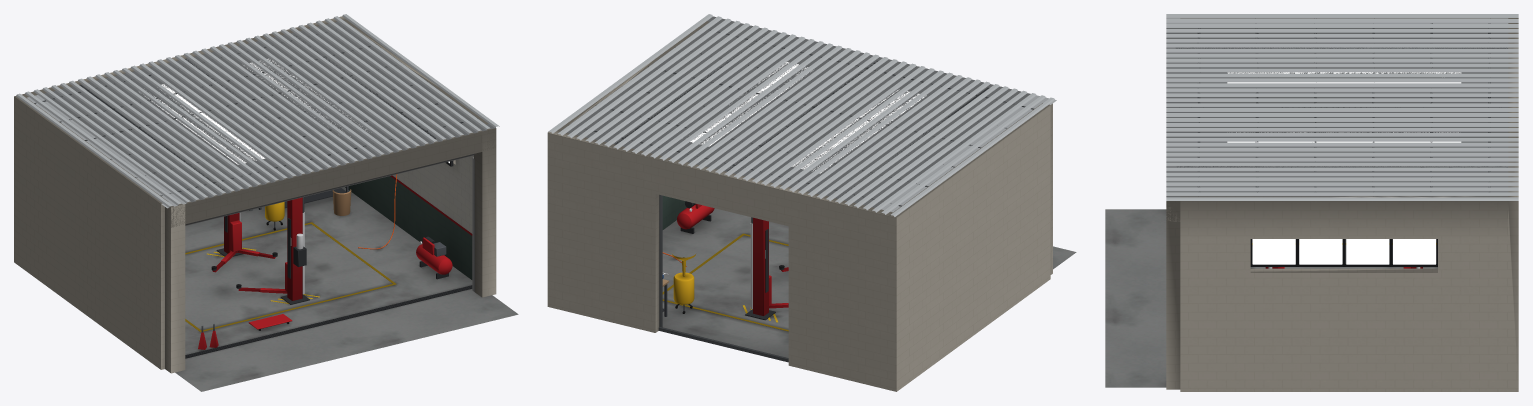
File: garage-hi-v1.glb
The picture shows the model from 3 angles, left to right: view 1: azimuth 30°, elevation 25°; view 2: azimuth 150°, elevation 25°; view 3: azimuth 270°, elevation 25°; orthographic projection. The views are drawn at different scales.
Visible parts, largest first — view 1: roof, floor, walls, front, props, lift_frame, arms_mesh, carriage_body; view 2: walls, roof, floor, lift_frame, props, door, front; view 3: roof, walls, floor, lights, front.
Boxes of the visible parts, box(x1,y1,x2,y2) form: roof: box(16, 14, 499, 208); floor: box(175, 187, 518, 391); walls: box(14, 16, 488, 369); front: box(165, 128, 496, 373); props: box(198, 174, 452, 349); lift_frame: box(216, 197, 309, 304); arms_mesh: box(211, 249, 287, 293); carriage_body: box(230, 220, 287, 291); walls: box(547, 21, 1050, 391); roof: box(548, 14, 1056, 216); floor: box(662, 208, 1076, 357); lift_frame: box(745, 217, 775, 320); props: box(662, 201, 714, 313); door: box(658, 195, 788, 362); front: box(1050, 103, 1052, 274); roof: box(1166, 14, 1518, 200); walls: box(1180, 18, 1518, 391); floor: box(1105, 209, 1437, 387); lights: box(1250, 239, 1437, 266); front: box(1166, 201, 1180, 389).
Size of the model in its own units: 9.45 by 4.55 by 8.82.
Materials: 27 (7 with a texture image).
